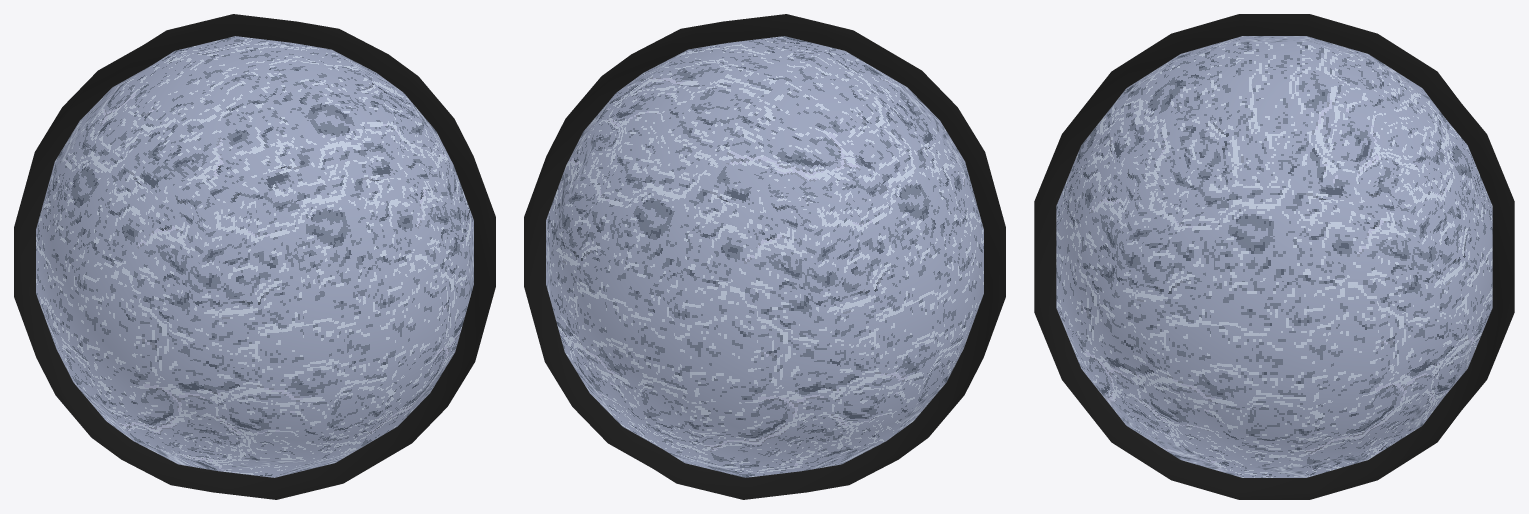
File: pixel_planet_8.glb
3 views of the same model, side by side, from view 1: azimuth 30°, elevation 25°; view 2: azimuth 150°, elevation 25°; view 3: azimuth 270°, elevation 25° (orthographic).
Visible parts, largest first — view 1: Object_2; view 2: Object_2; view 3: Object_2.
Part boxes in pixels (x1,y1,x2,y2): Object_2: (14,14,495,499); Object_2: (524,14,1005,499); Object_2: (1034,14,1514,499).
Size of the model in its own units: 3.7 by 3.7 by 3.7.
1 material, 1 textured.
